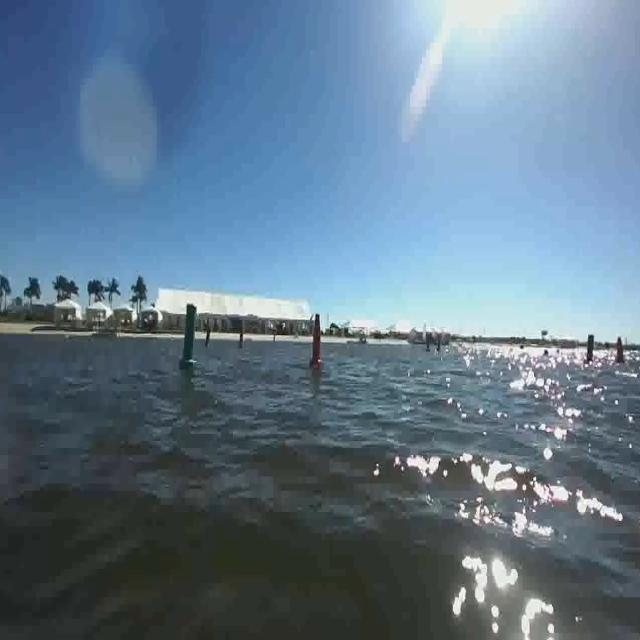green-column-buoy: (178, 304, 197, 369), (585, 333, 598, 364), (204, 324, 213, 348)
red-column-buoy: (307, 312, 322, 370), (616, 336, 628, 365)
